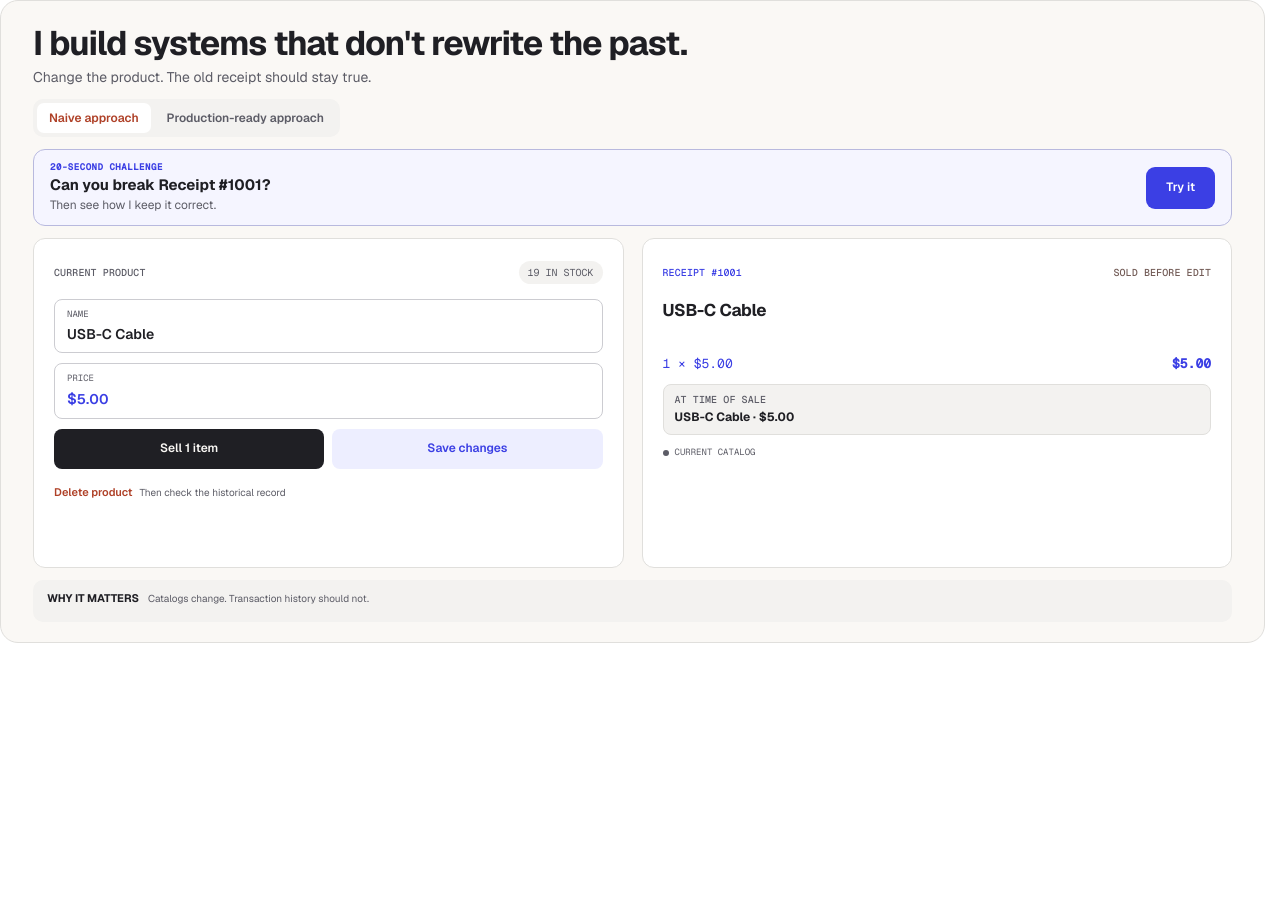
Scenario: InventoryDemo › starts the guided demo at a deterministic receipt baseline
Step 1. Replace the text in the field labelled "Name" with "Premium Braided USB-C Cable" → point(328, 334), box [67,325,590,344]
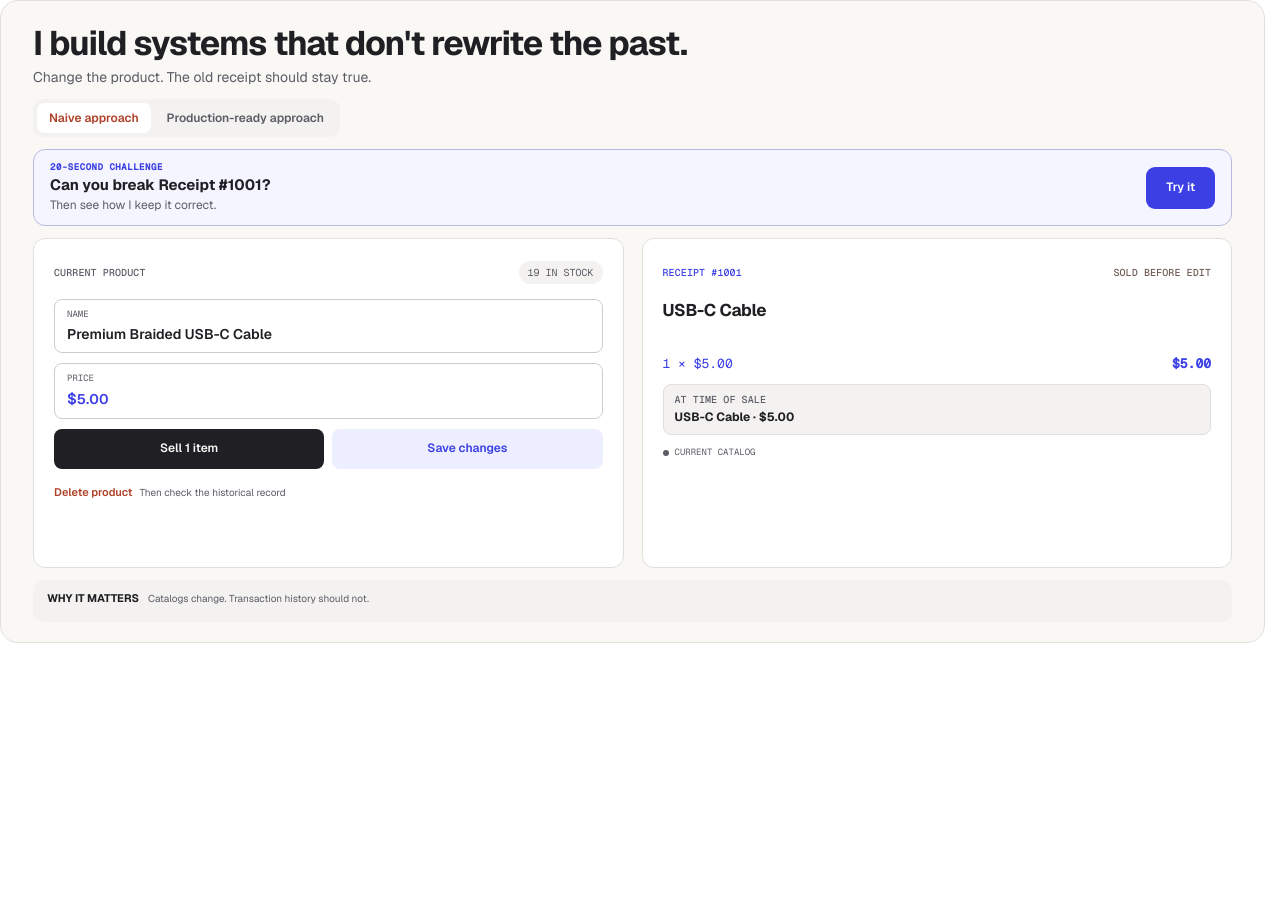
Step 2. Replace the text in the field labelled "Price" with "8" → point(333, 399), box [77,390,590,408]
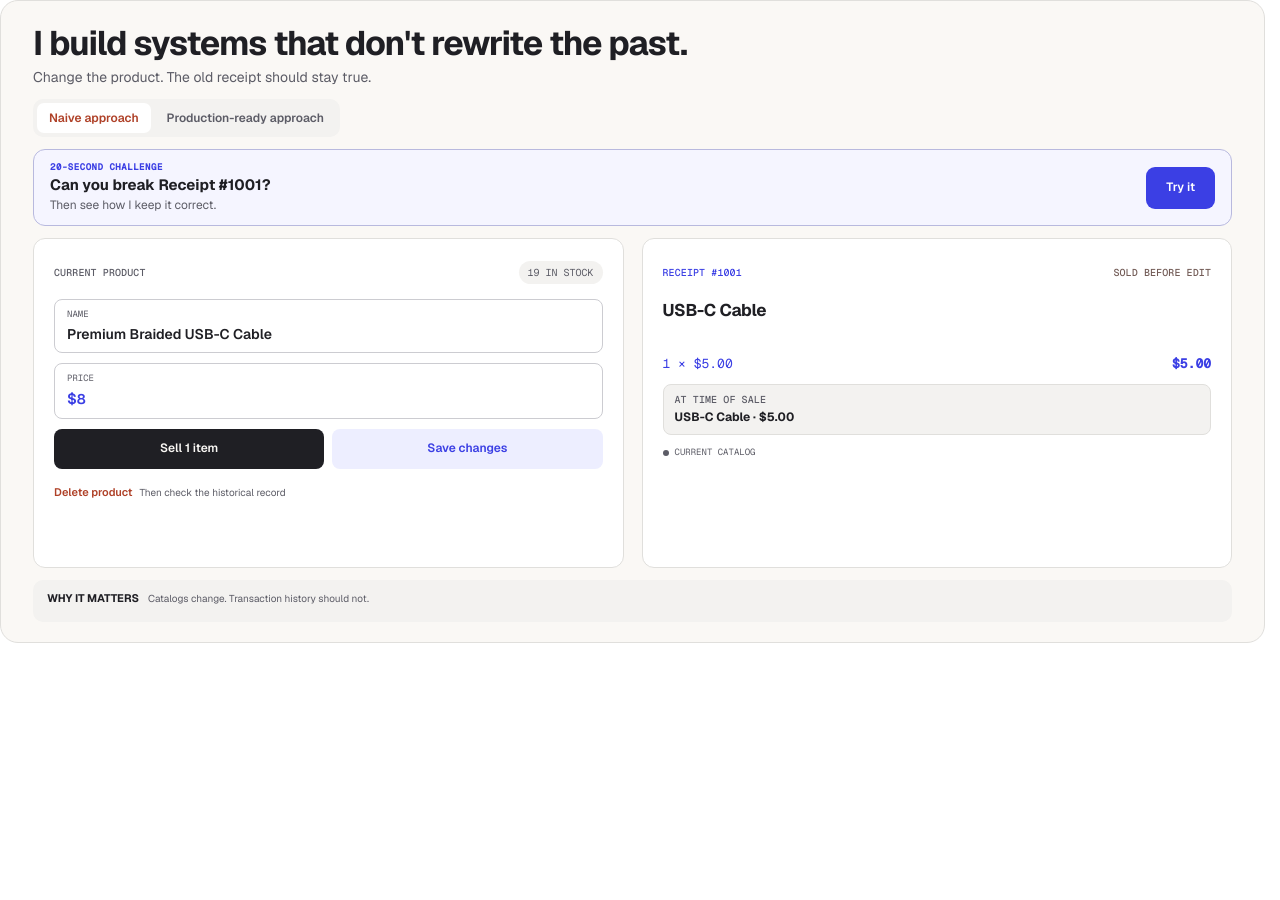
Step 3. Click the button "Save changes" → point(467, 449), box [332,429,603,469]
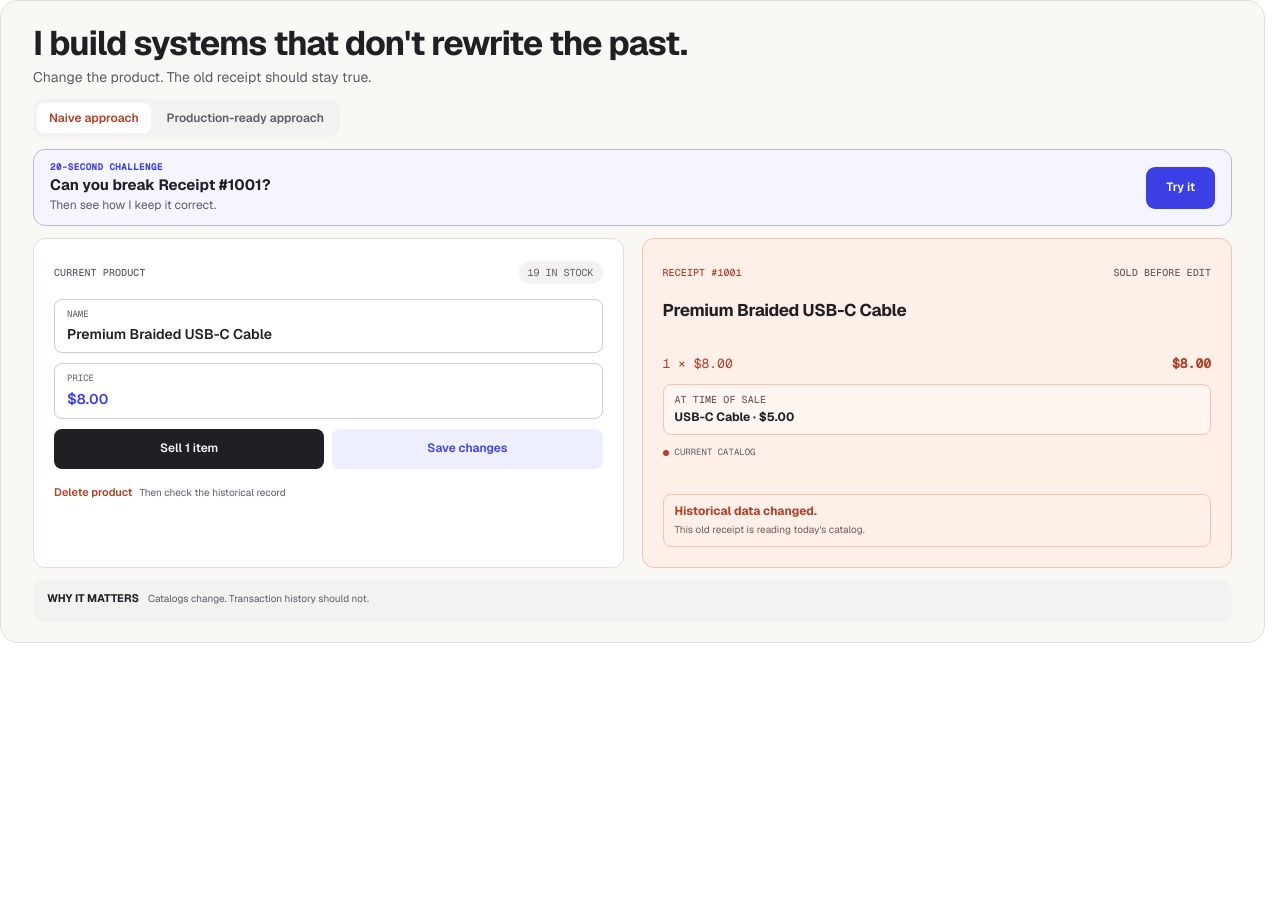
Step 4. Click the tab "Production-ready approach" → point(245, 118), box [155,103,336,133]
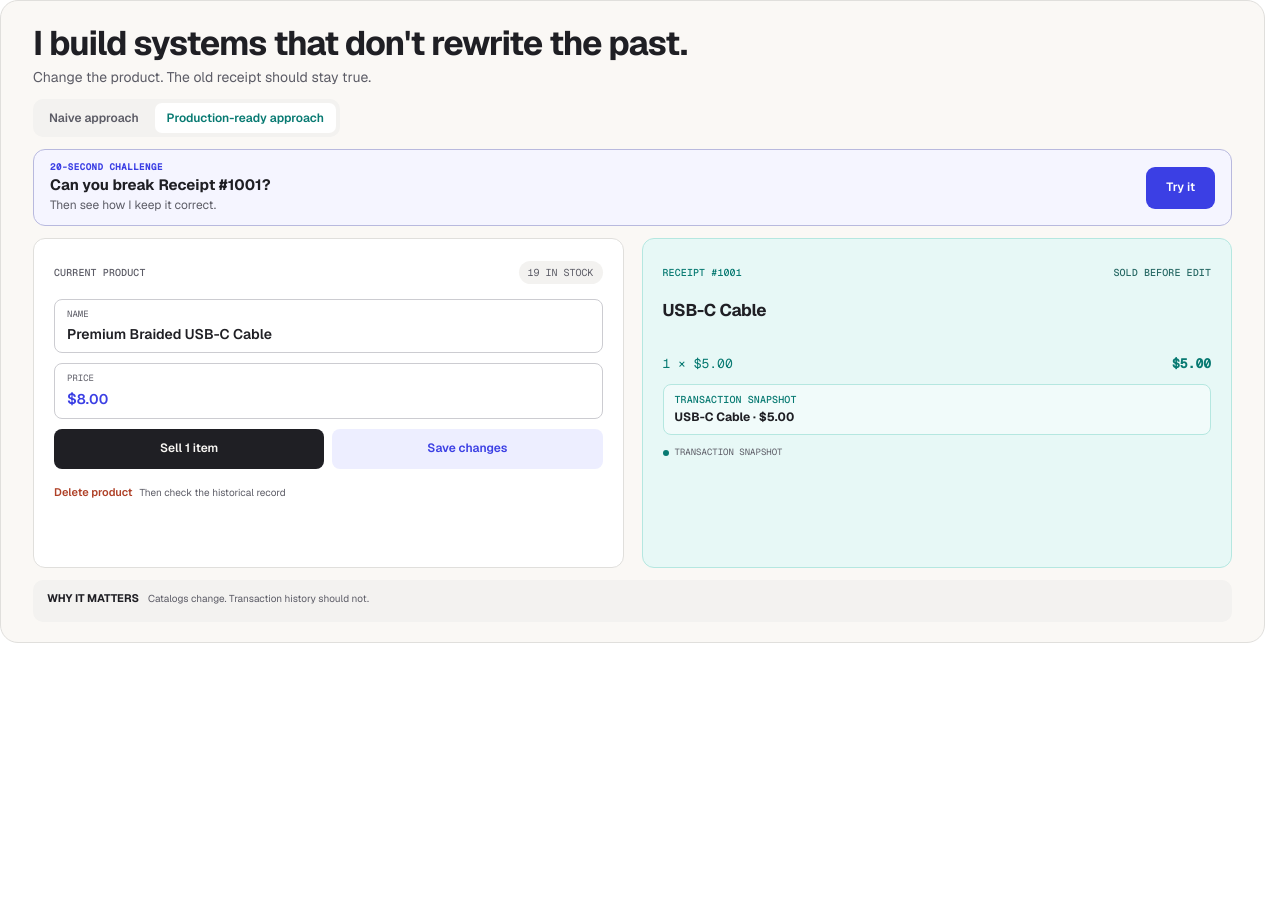
Step 5. Click the button "Sell 1 item" → point(189, 449), box [54,429,324,469]
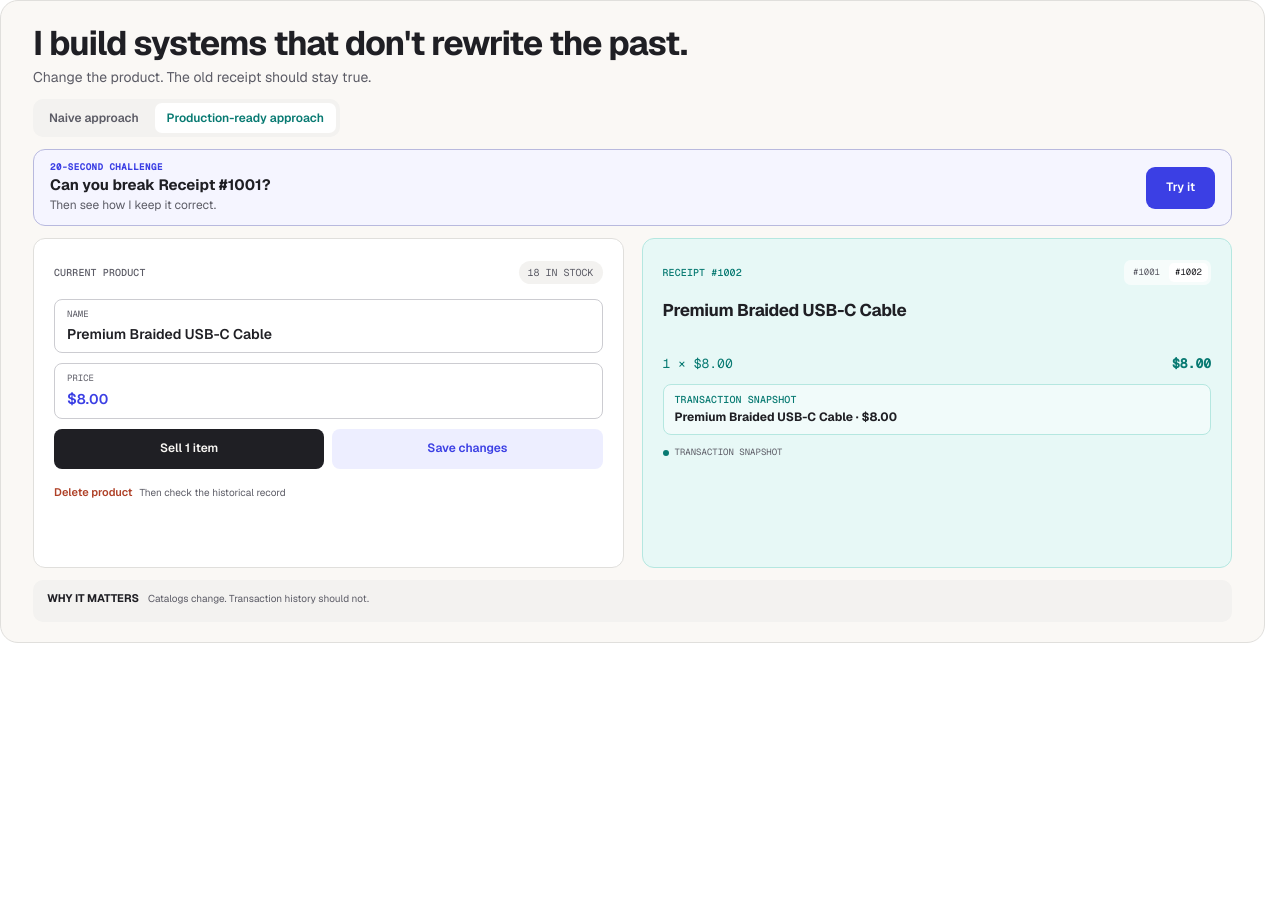
Step 6. Click the button "Try it" → point(1181, 188), box [1146,166,1215,208]
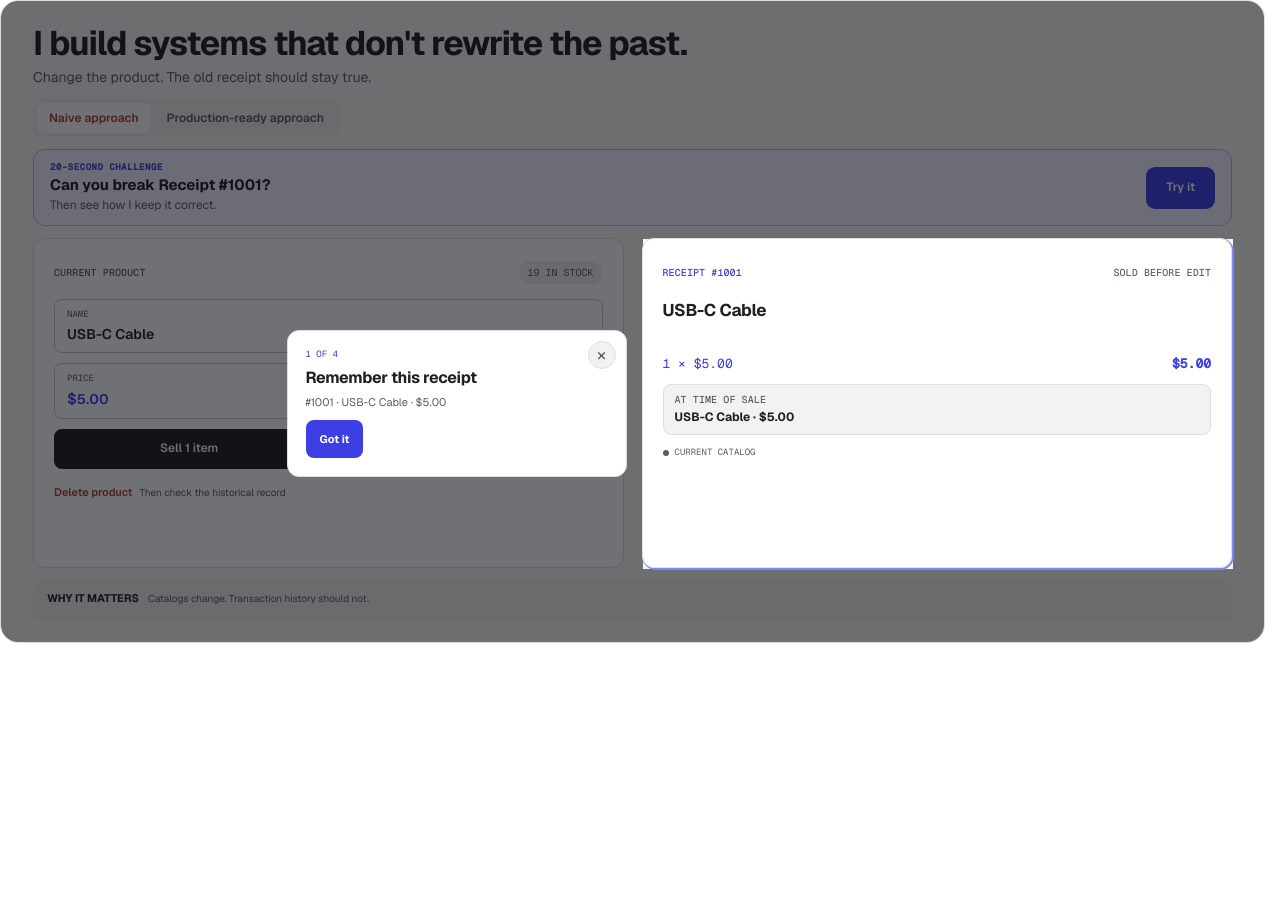
expect the dialog shows "1 OF 4": met, box [286,330,626,477]
expect the heading "Remember this receipt" is shown: met, box [306,367,477,388]
expect the dialog shows "#1001 · USB-C Cable · $5.00": met, box [306,395,446,409]
